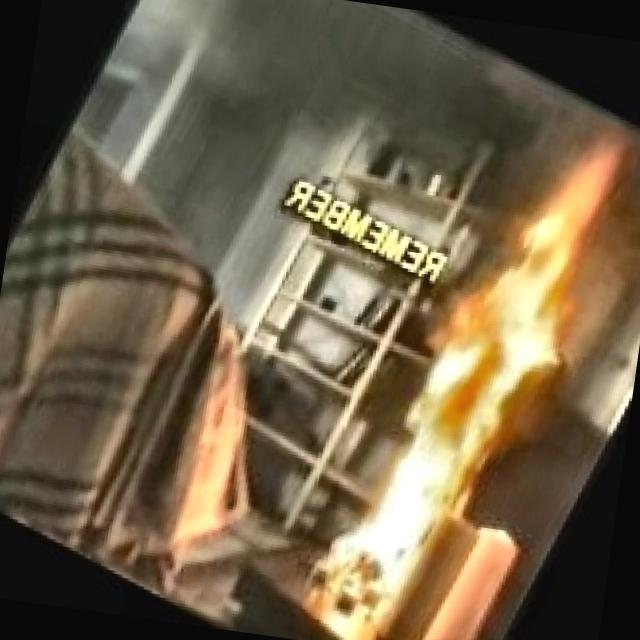fire: (301, 57, 640, 636)
